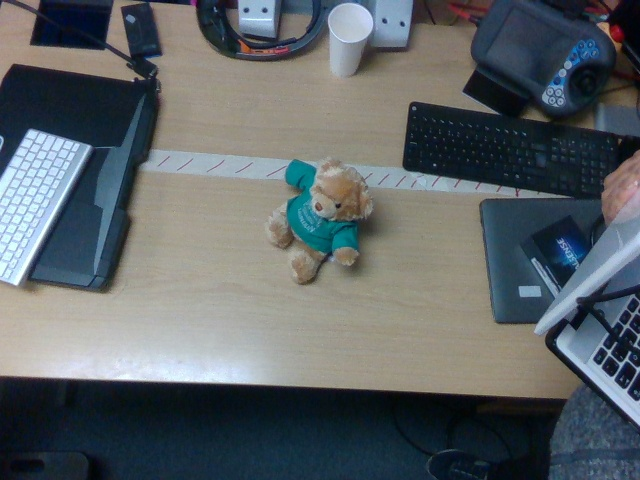teddy: (266, 158, 373, 284)
